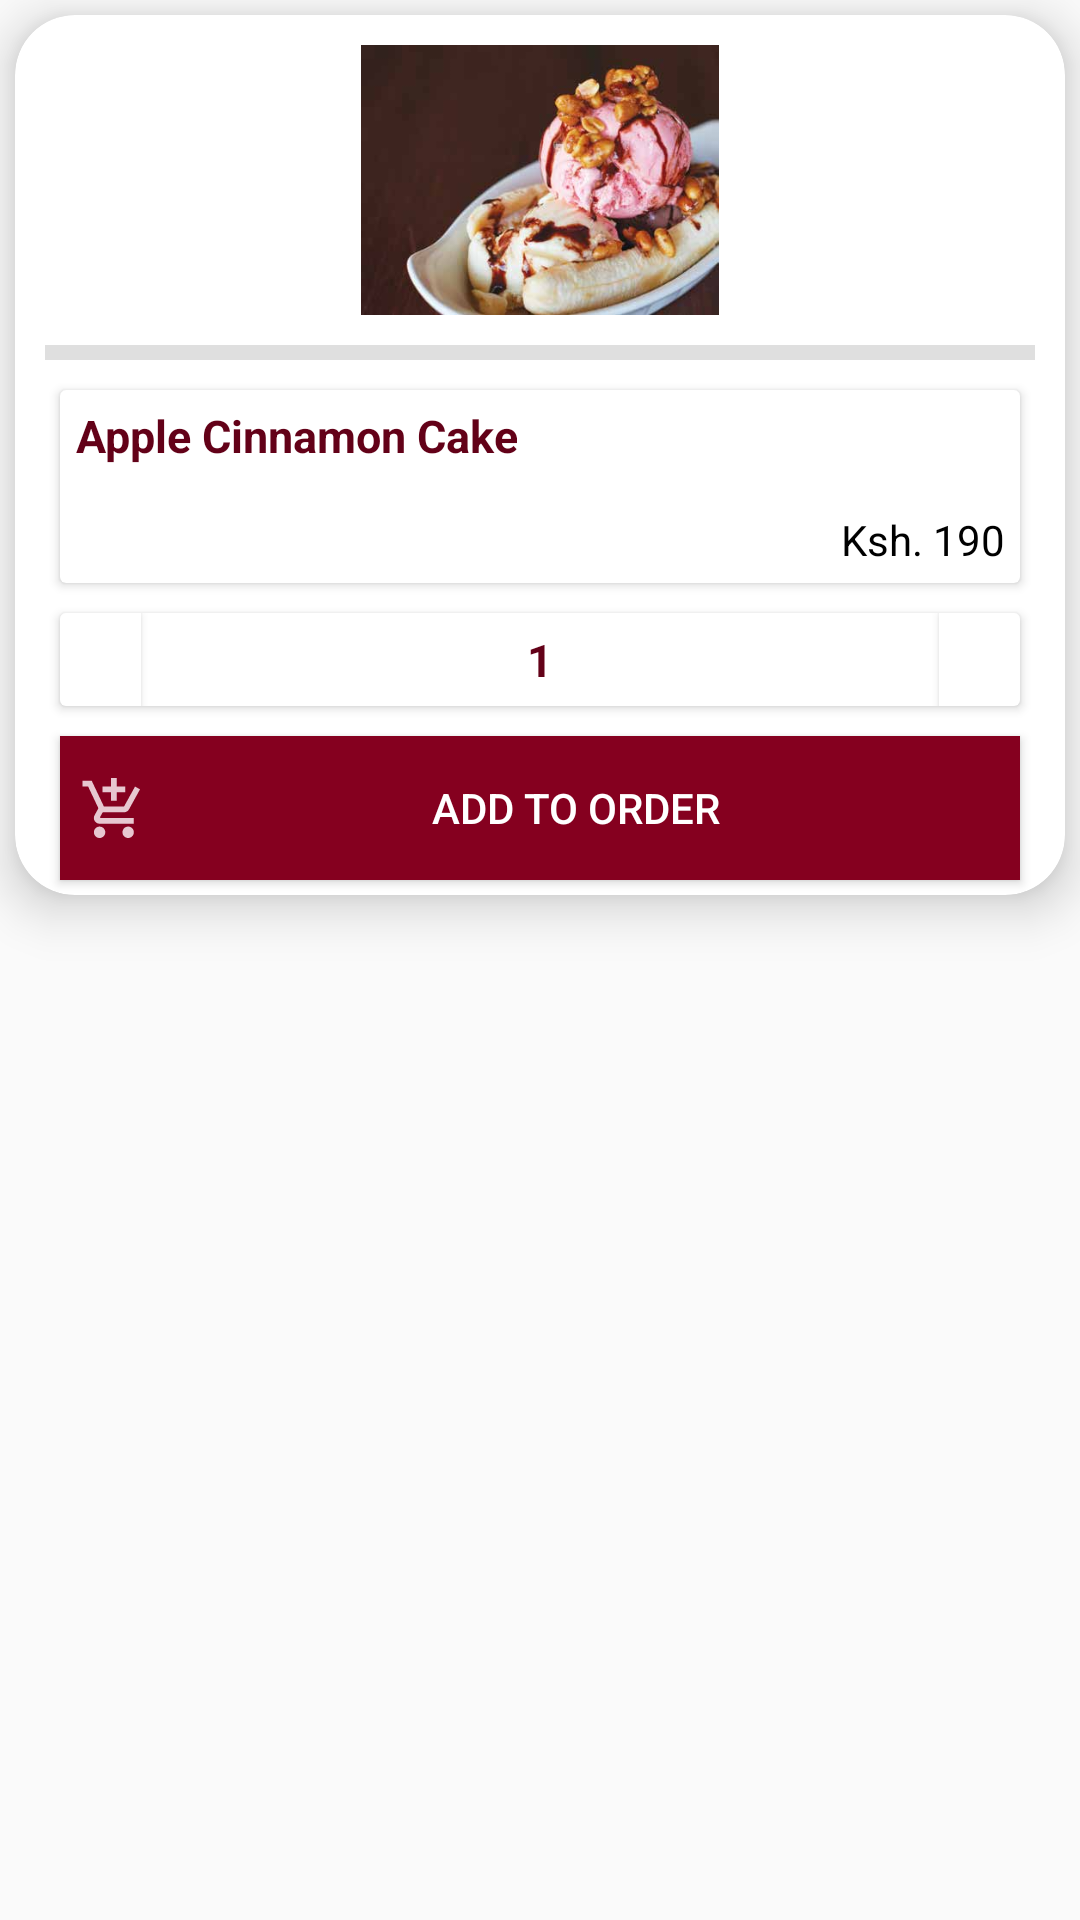

Icons on this 1080px x 1920px Android screen, each with the point to tap as (x=x, y=y):
bananasplit: (x=540, y=180)
